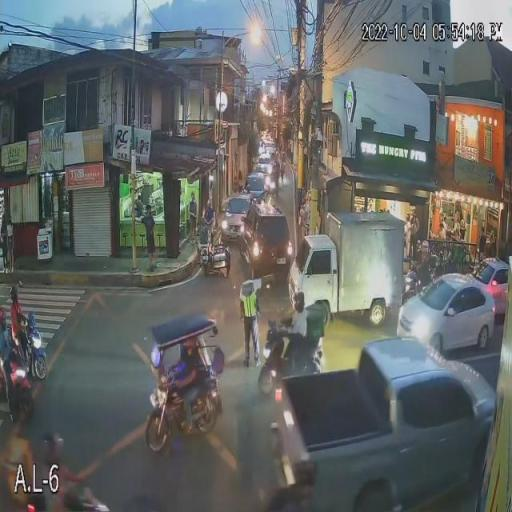helmet: (292, 292, 306, 312)
motorcycle: (256, 318, 326, 400), (0, 328, 34, 422), (15, 310, 48, 382)
rider: (276, 292, 322, 368), (0, 307, 25, 377), (10, 289, 31, 346)
